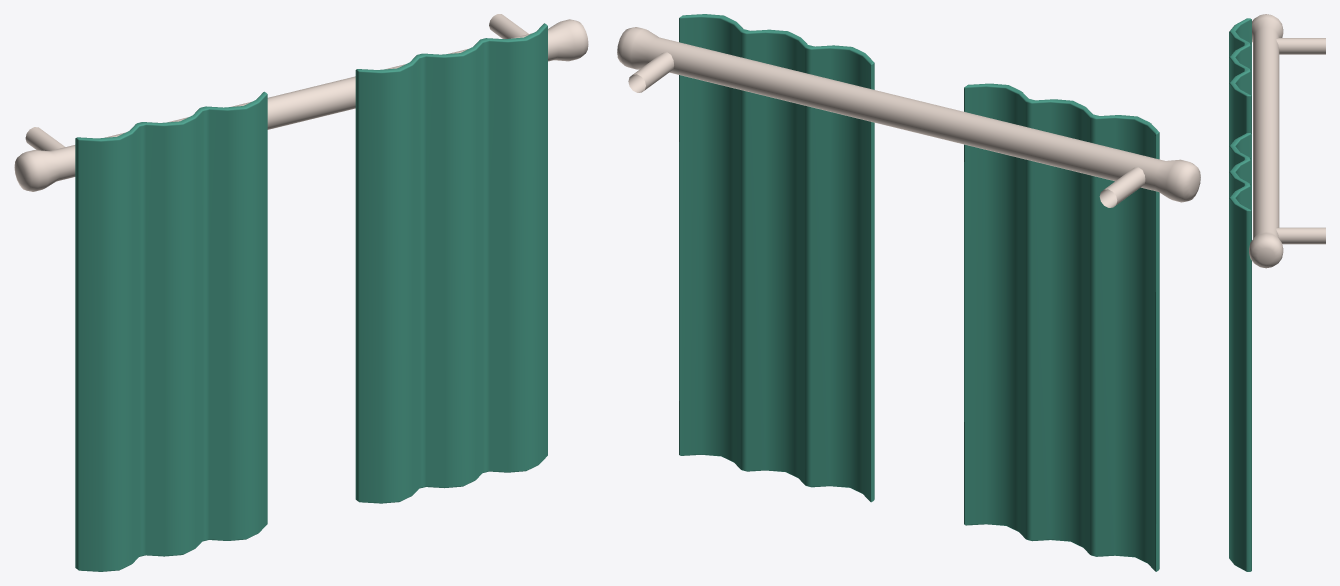
The model's file is Curtains_1.glb.
3 renders of one model, left to right at view 1: azimuth 30°, elevation 25°; view 2: azimuth 150°, elevation 25°; view 3: azimuth 270°, elevation 25°, orthographic. The views are drawn at different scales.
Parts seen in each view (by area): view 1: Curtains_1; view 2: Curtains_1; view 3: Curtains_1.
Part boxes in pixels (bbox=[...]): Curtains_1: bbox=[14, 14, 588, 571]; Curtains_1: bbox=[617, 14, 1200, 571]; Curtains_1: bbox=[1229, 14, 1325, 571].
Size of the model in its own units: 2.71 by 1.99 by 0.4825.
Materials: 1 (1 with a texture image).
